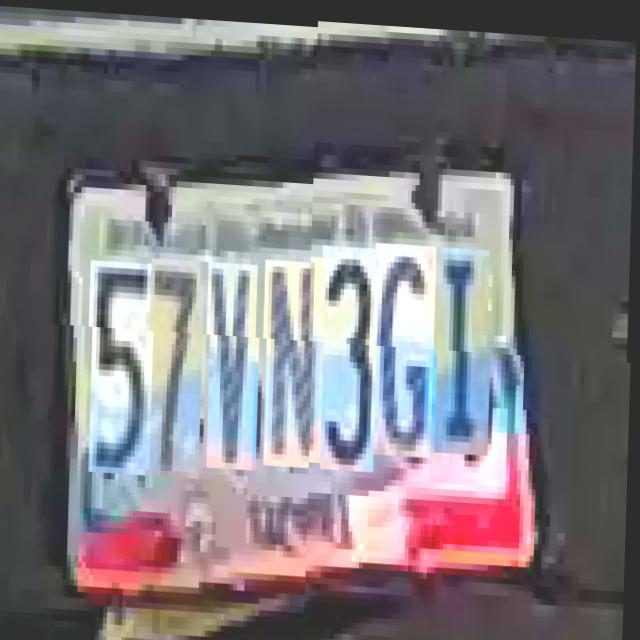3: (323, 247, 381, 473)
5: (92, 258, 156, 474)
7: (152, 256, 206, 476)
G: (376, 244, 442, 458)
I: (437, 247, 495, 455)
N: (266, 256, 328, 464)
V: (210, 259, 264, 467)
